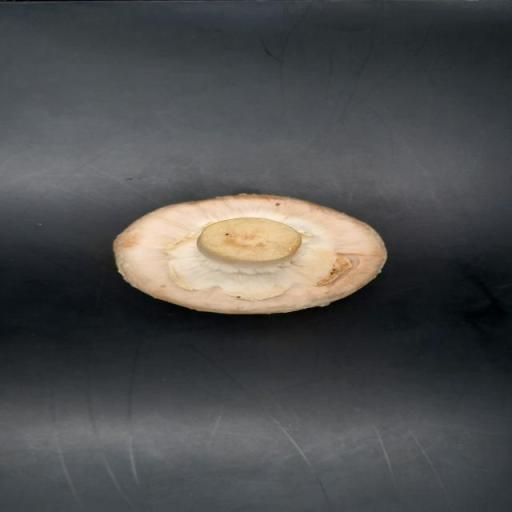Button Mushroom: (111, 193, 388, 316)
